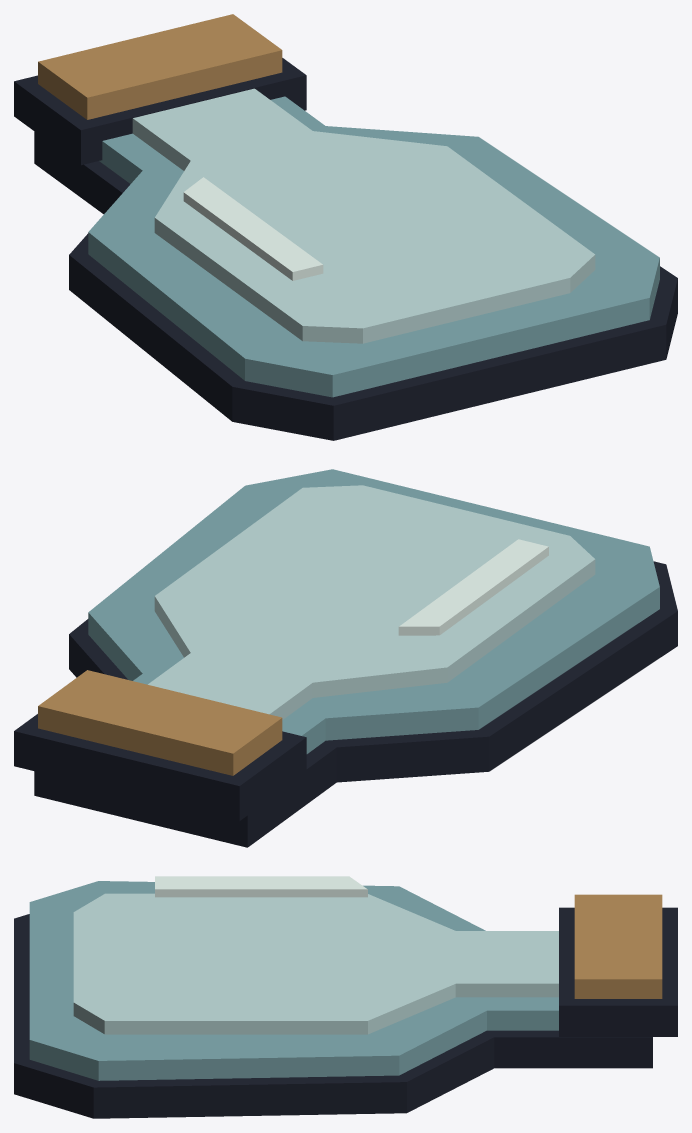
Rendered from bottle_empty.fbx.
3 views of the same model, one above another, from view 1: azimuth 30°, elevation 25°; view 2: azimuth 150°, elevation 25°; view 3: azimuth 270°, elevation 25° (orthographic). The views are drawn at different scales.
Parts seen in each view (by area): view 1: bottle_empty__Icon; view 2: bottle_empty__Icon; view 3: bottle_empty__Icon.
Part boxes in pixels (x1=…): bottle_empty__Icon: x1=14, y1=14, x2=677, y2=440; bottle_empty__Icon: x1=14, y1=469, x2=677, y2=847; bottle_empty__Icon: x1=14, y1=876, x2=677, y2=1118.
Size of the model in its own units: 0.7307 by 0.179 by 1.06.
1 material, 1 textured.
